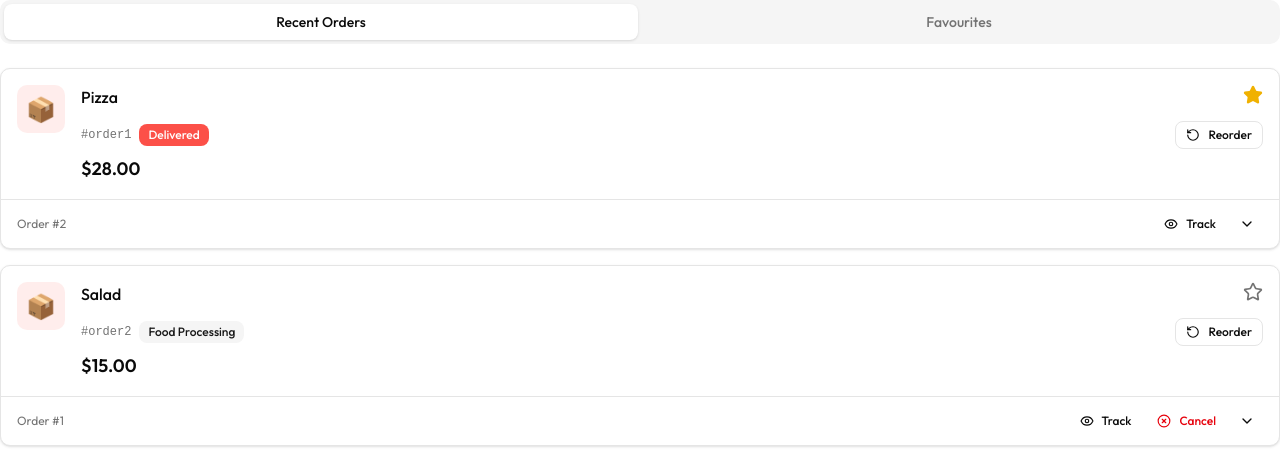
Test: OrderList (myorders) › shows favourited orders in Favourites tab
This screenshot has width=1280, height=464.
Click the button "Favourites": {"x": 959, "y": 22} [642,4,1276,40]
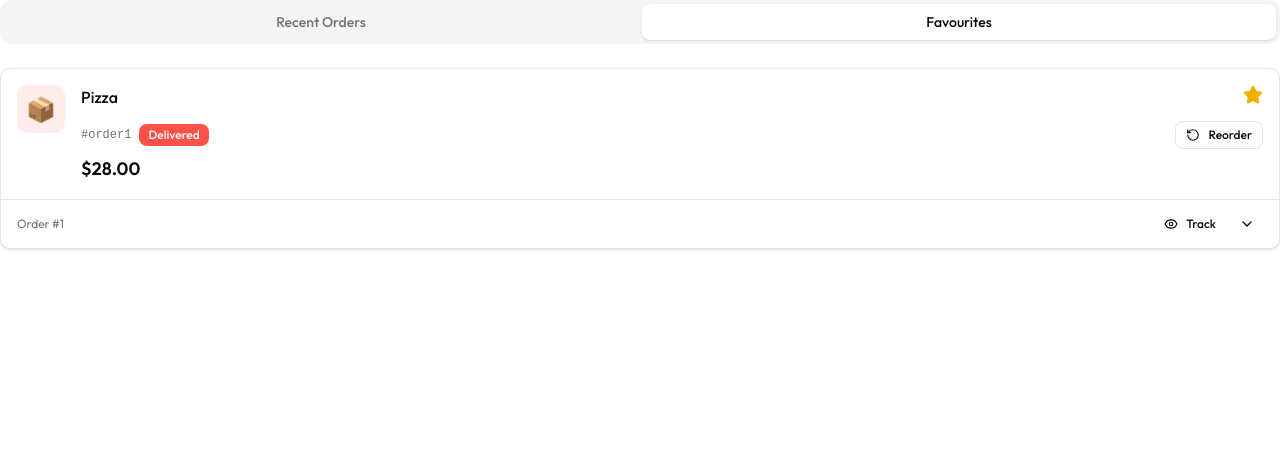
Expected: the heading "Pizza" is shown, [81,85,118,109]
Expected: the heading "Salad" is gone
